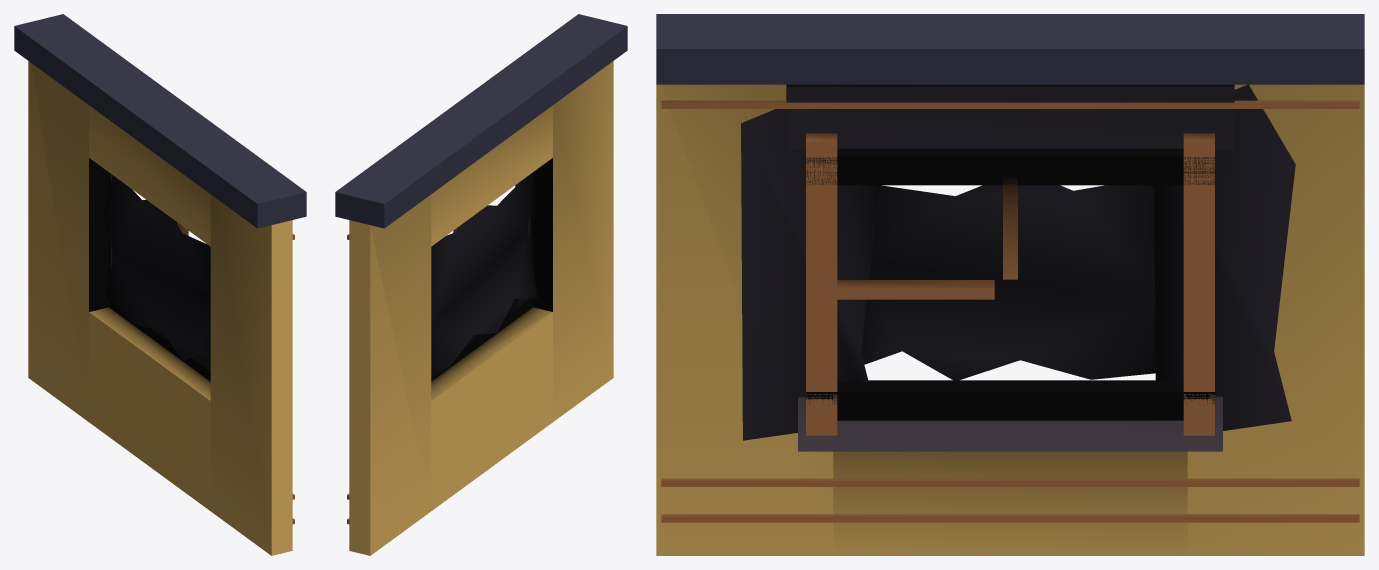
3 views of the same model, side by side, from view 1: azimuth 30°, elevation 25°; view 2: azimuth 150°, elevation 25°; view 3: azimuth 270°, elevation 25° (orthographic). The views are drawn at different scales.
Visible parts, largest first — view 1: body_pal_mustardLight, roof_pal_navy, body_pal_uiDark, body_pal_woodWarm; view 2: body_pal_mustardLight, roof_pal_navy, body_pal_uiDark, body_pal_woodWarm; view 3: body_pal_mustardLight, body_pal_uiDark, body_pal_woodWarm, roof_pal_navy, body_pal_asphalt.
Part boxes in pixels (box(x1,y1,x2,y2)): body_pal_mustardLight: box(28, 61, 292, 555); roof_pal_navy: box(14, 14, 306, 228); body_pal_uiDark: box(104, 175, 210, 366); body_pal_woodWarm: box(109, 172, 294, 524); body_pal_mustardLight: box(349, 61, 613, 555); roof_pal_navy: box(335, 14, 627, 228); body_pal_uiDark: box(431, 171, 537, 375); body_pal_woodWarm: box(347, 185, 532, 524); body_pal_mustardLight: box(656, 84, 1364, 555); body_pal_uiDark: box(741, 84, 1295, 440); body_pal_woodWarm: box(661, 100, 1359, 522); roof_pal_navy: box(656, 14, 1364, 84); body_pal_asphalt: box(798, 396, 1222, 451).
Bounding box in the file's own units: 0.43 × 2.9 × 3.6.
